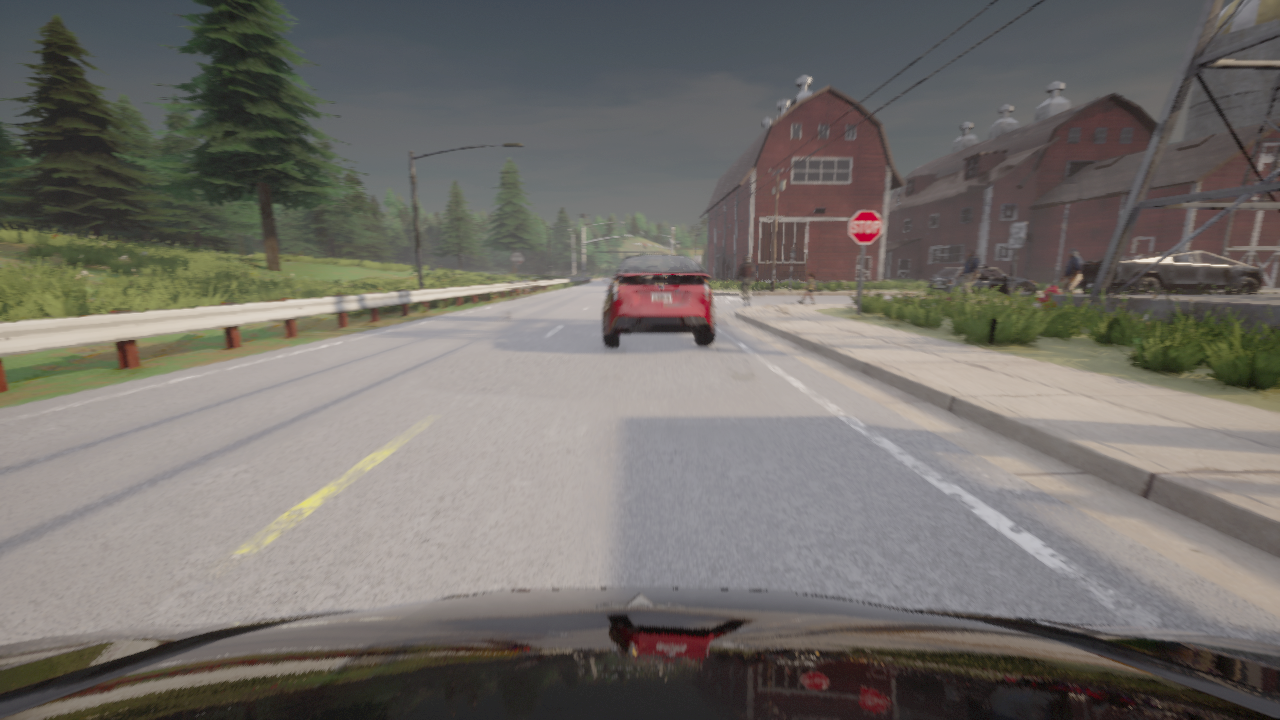cyclist: (0, 588, 1279, 719), (603, 255, 715, 347), (1077, 251, 1262, 294), (925, 267, 1036, 298), (1111, 289, 1223, 294)
pedestrian: (956, 249, 979, 295), (735, 256, 754, 306), (1062, 249, 1082, 294), (798, 273, 815, 304)
